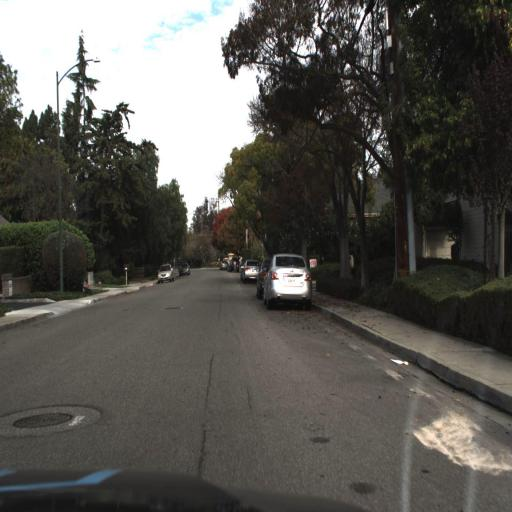car: (261, 240, 317, 318), (240, 258, 259, 288), (154, 260, 175, 284), (174, 258, 194, 283), (154, 263, 176, 285), (177, 256, 196, 278)
